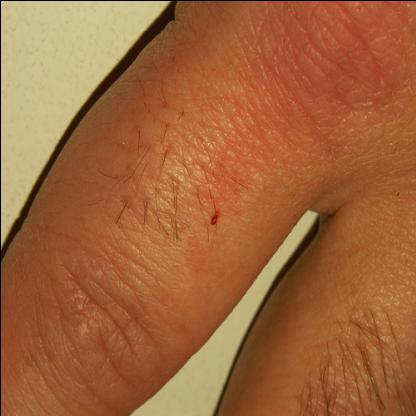Bed Bug: (255, 1, 408, 135), (190, 138, 296, 214)
